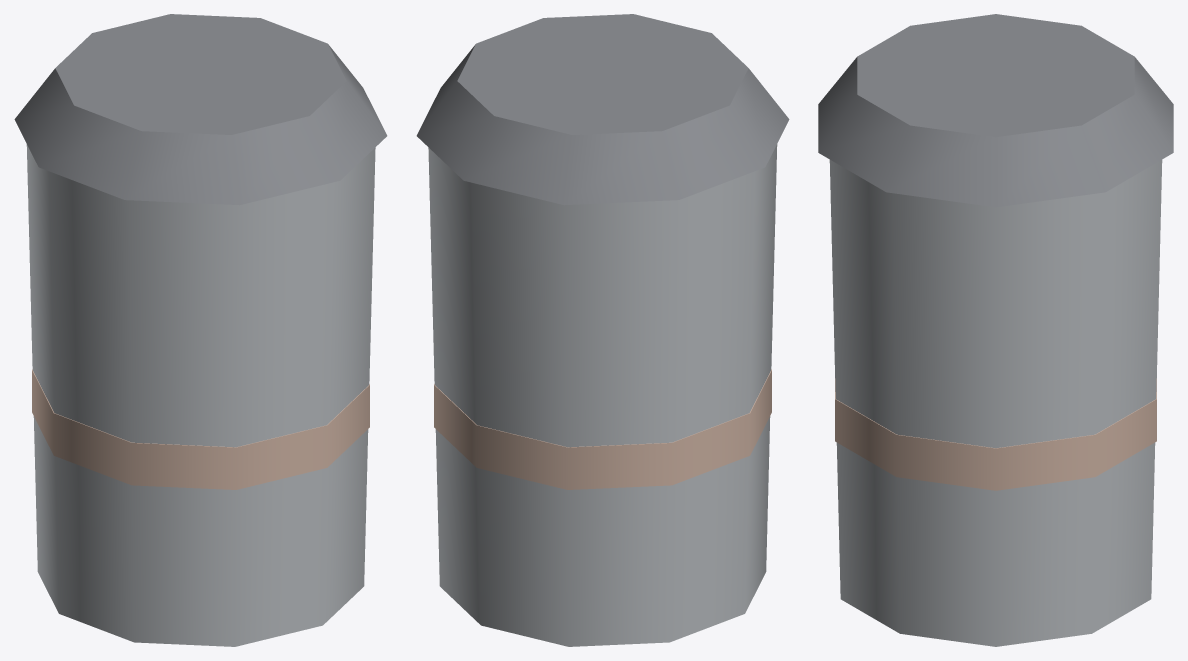
Rendered from trash_bin.glb.
3 renders of one model, left to right at view 1: azimuth 30°, elevation 25°; view 2: azimuth 150°, elevation 25°; view 3: azimuth 270°, elevation 25°, orthographic.
Visible parts, largest first — view 1: trash_bin; view 2: trash_bin; view 3: trash_bin.
Part boxes in pixels (x1,y1,x2,y2): trash_bin: (14, 14, 387, 646); trash_bin: (416, 14, 789, 646); trash_bin: (818, 14, 1173, 646).
Bounding box in the file's own units: 0.64 × 0.95 × 0.6087.
